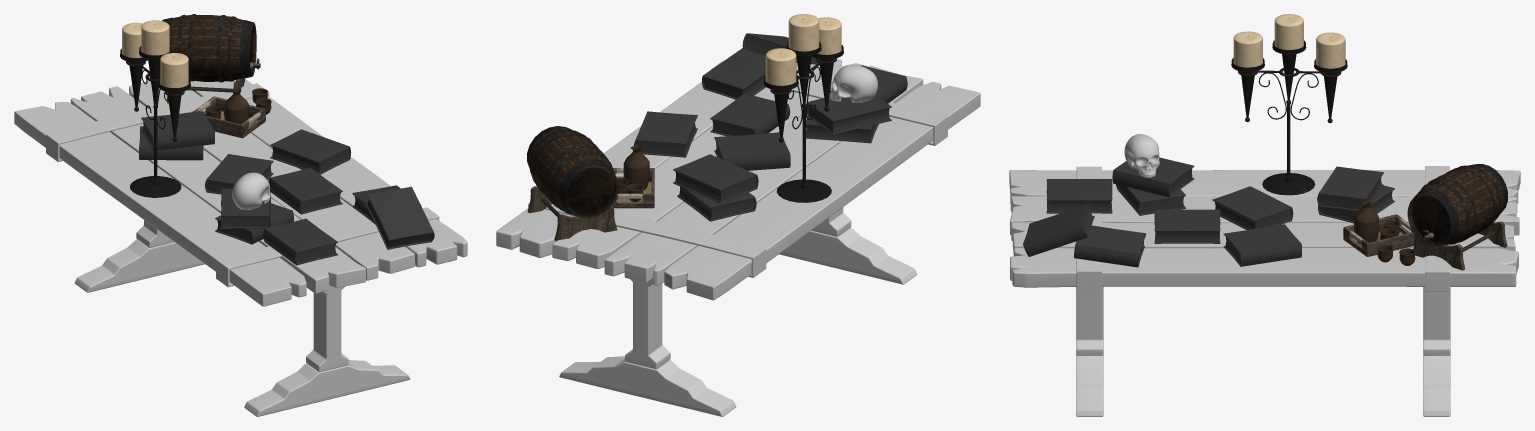
The model's file is SM_CombinedTable.fbx.
3 views of the same model, side by side, from view 1: azimuth 30°, elevation 25°; view 2: azimuth 150°, elevation 25°; view 3: azimuth 270°, elevation 25° (orthographic). The views are drawn at different scales.
Visible parts, largest first — view 1: SM_CombinedTable; view 2: SM_CombinedTable; view 3: SM_CombinedTable.
Boxes of the visible parts, bbox=[...] form: SM_CombinedTable: bbox=[14, 14, 467, 416]; SM_CombinedTable: bbox=[496, 14, 980, 416]; SM_CombinedTable: bbox=[1009, 14, 1520, 416].
Bounding box in the file's own units: 129 × 263 × 184.
